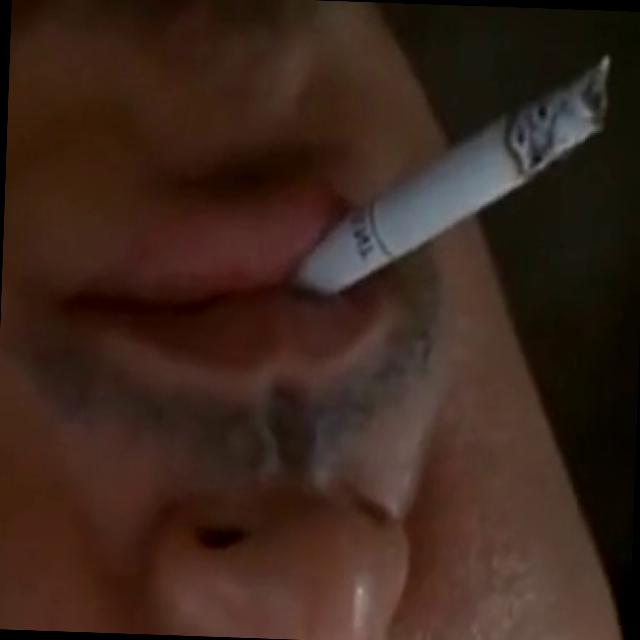smoke: (330, 42, 610, 309)
